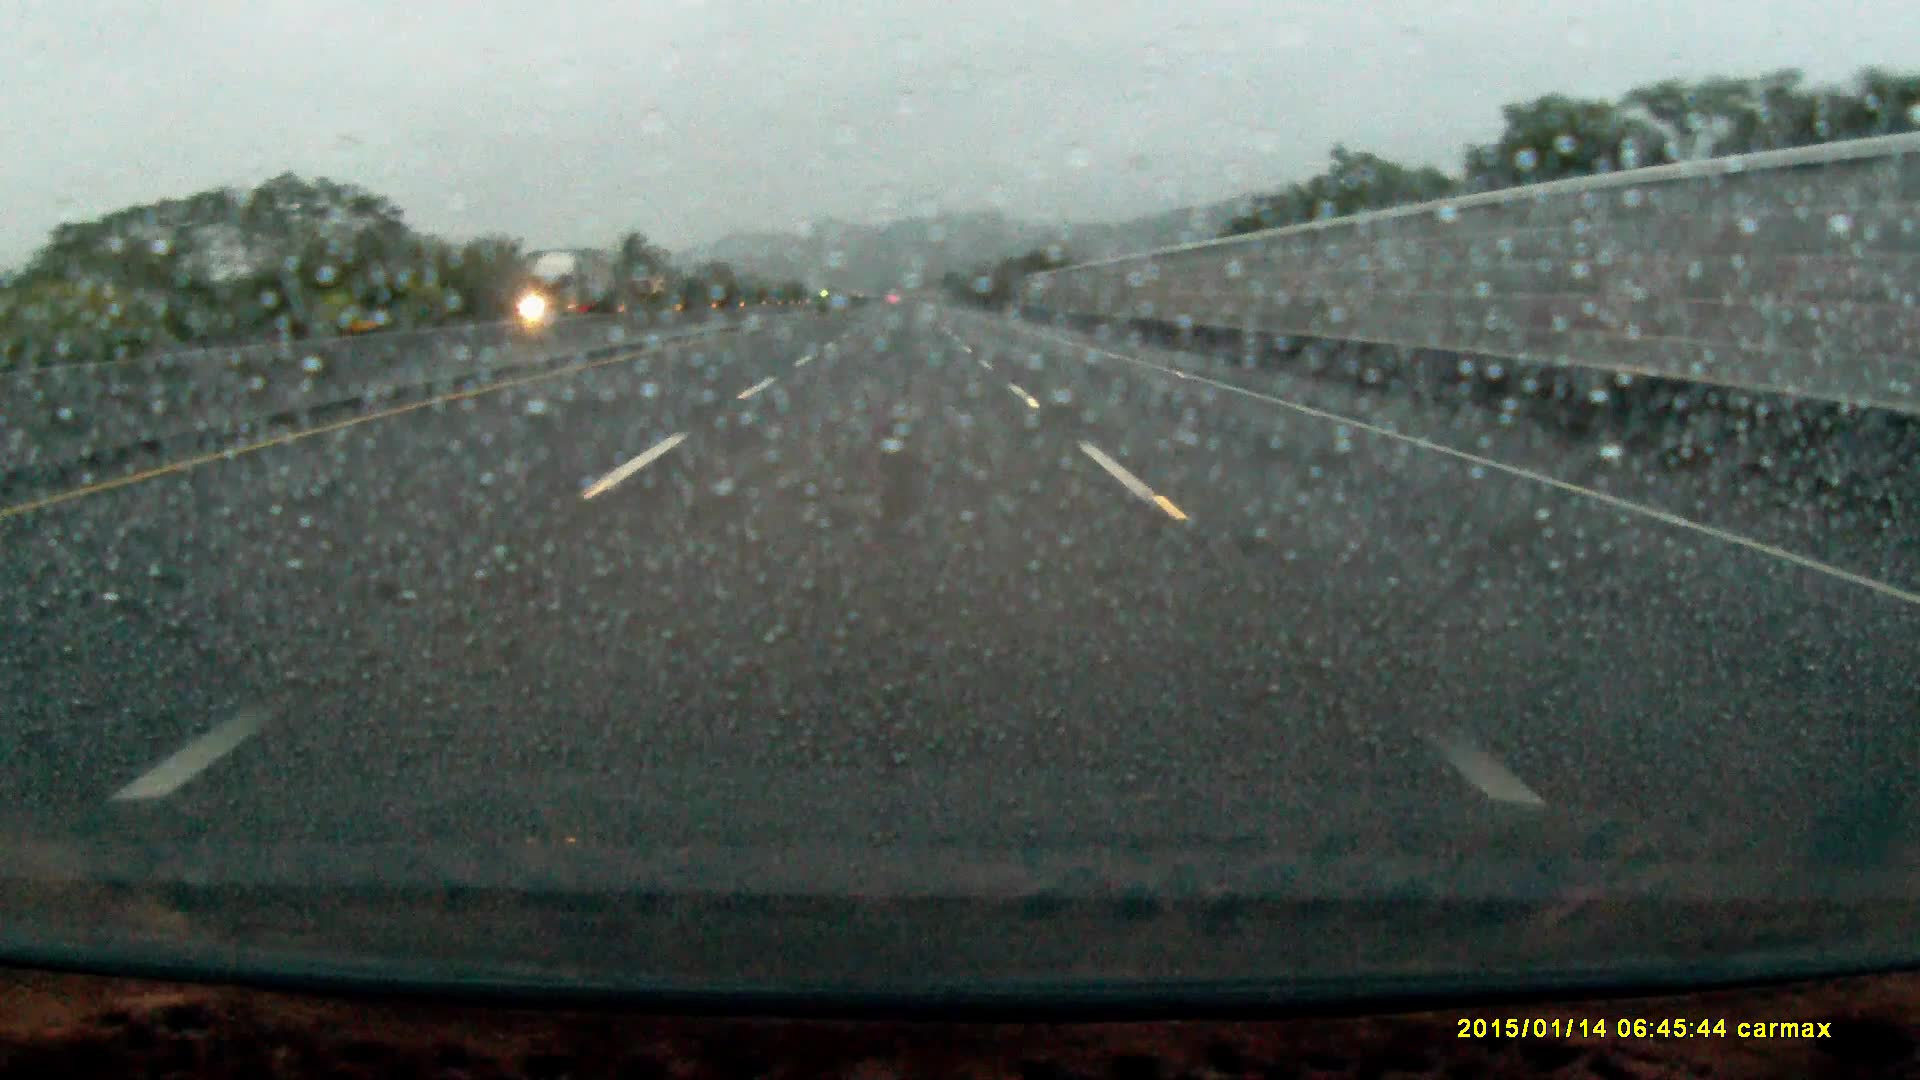vehicle: (518, 251, 622, 318)
